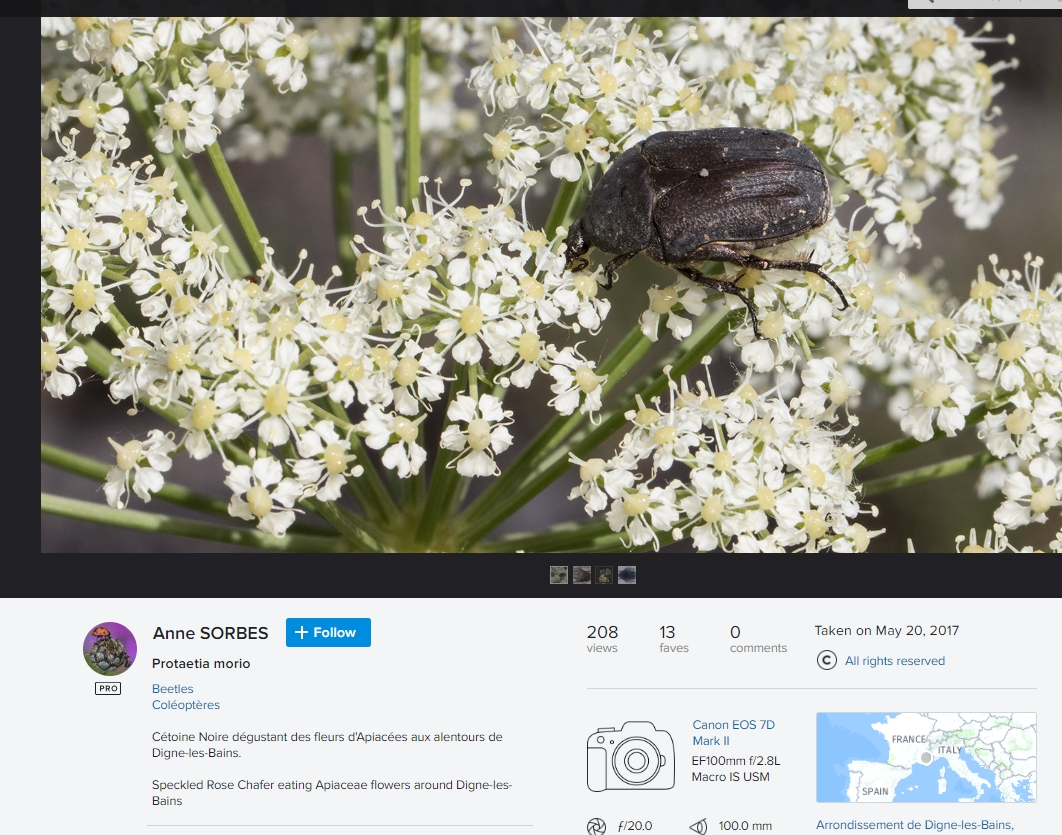Protaetia_morio_morio: (560, 109, 855, 350)
